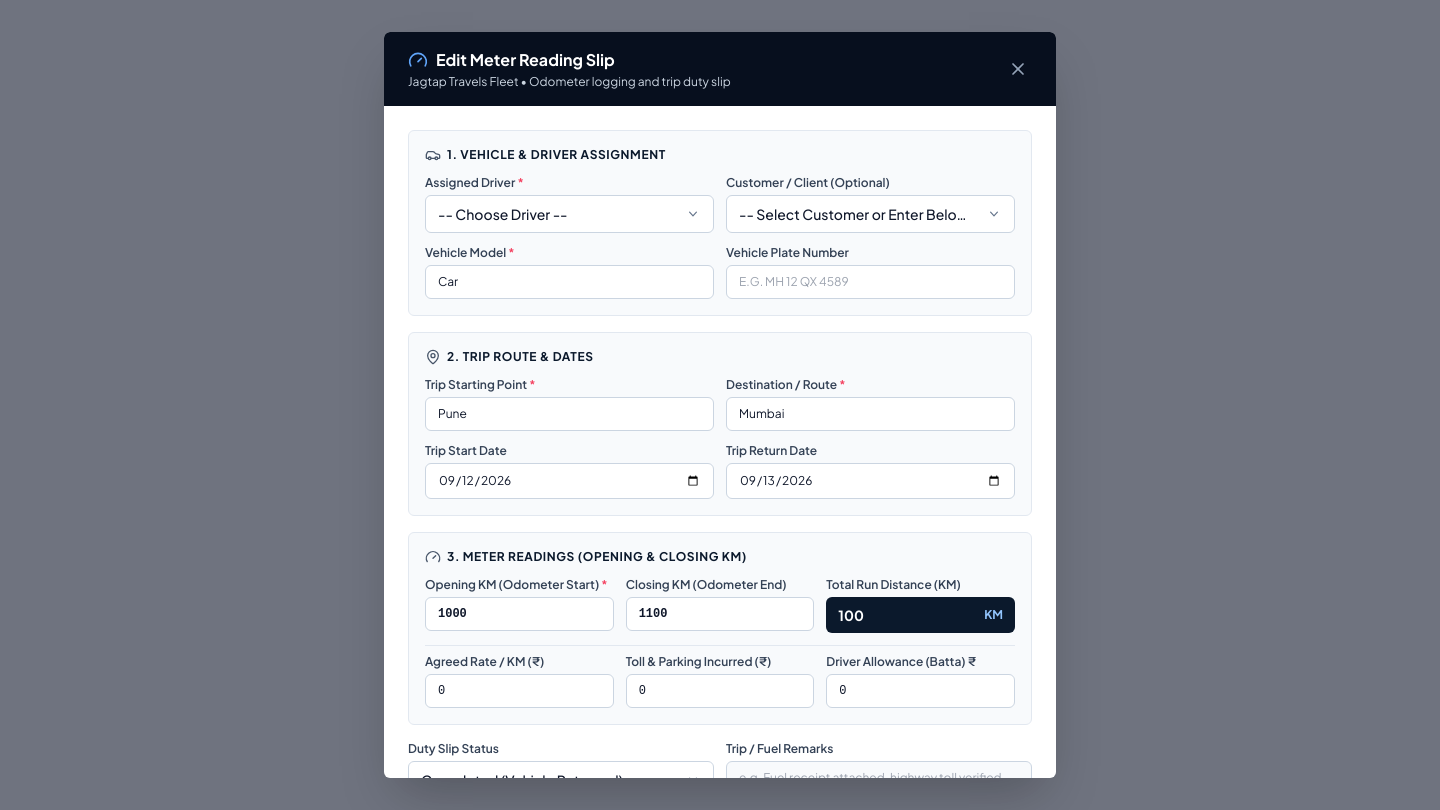
Test: meter edit preserves zero rates and rejects reversed readings
Step 1. Replace the text in the number field with placeholder "e.g. 42680" below "Closing KM (Odometer End)" with "900" → [720, 614], box [626,597,814,631]
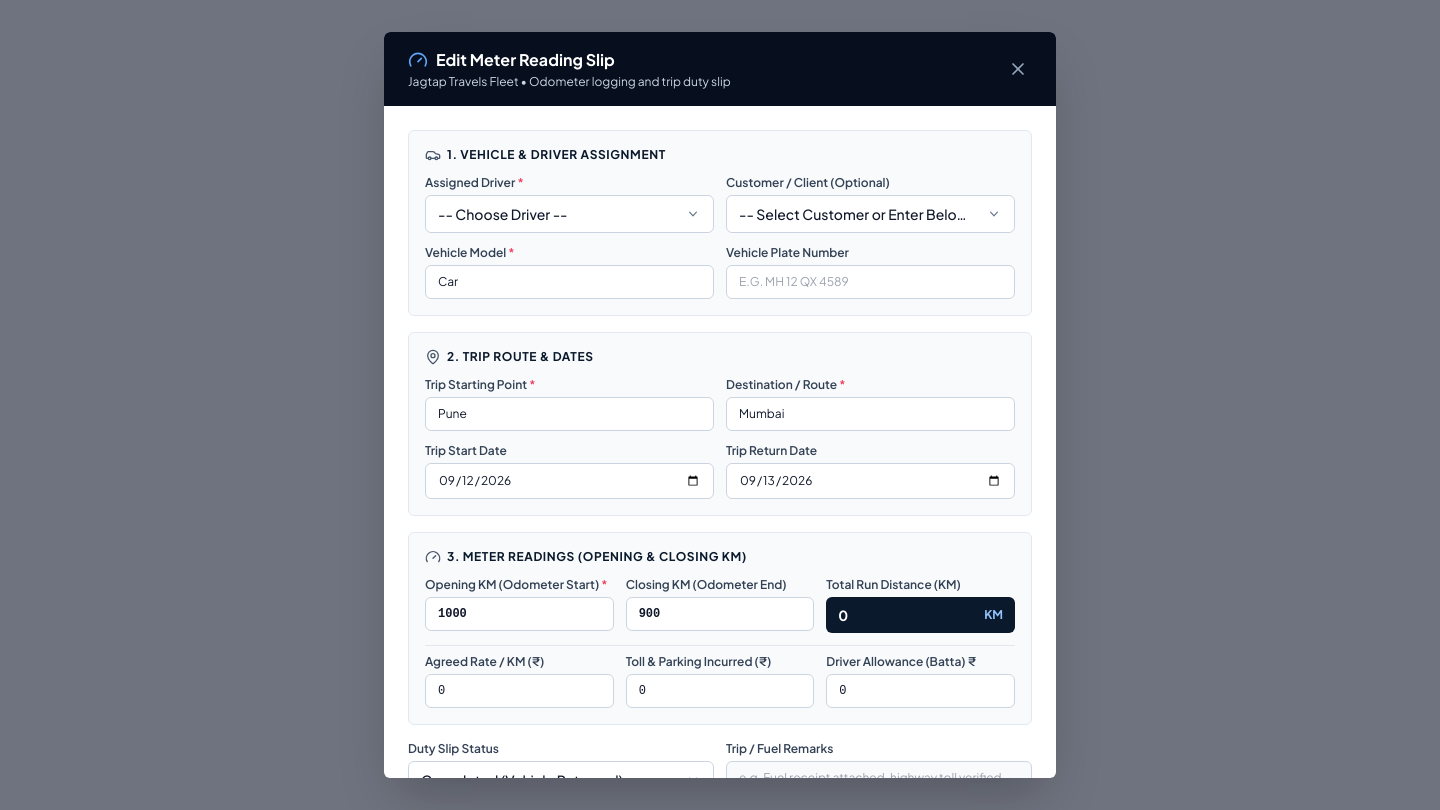
Step 2. Submit the form, box [384,106,1056,778]
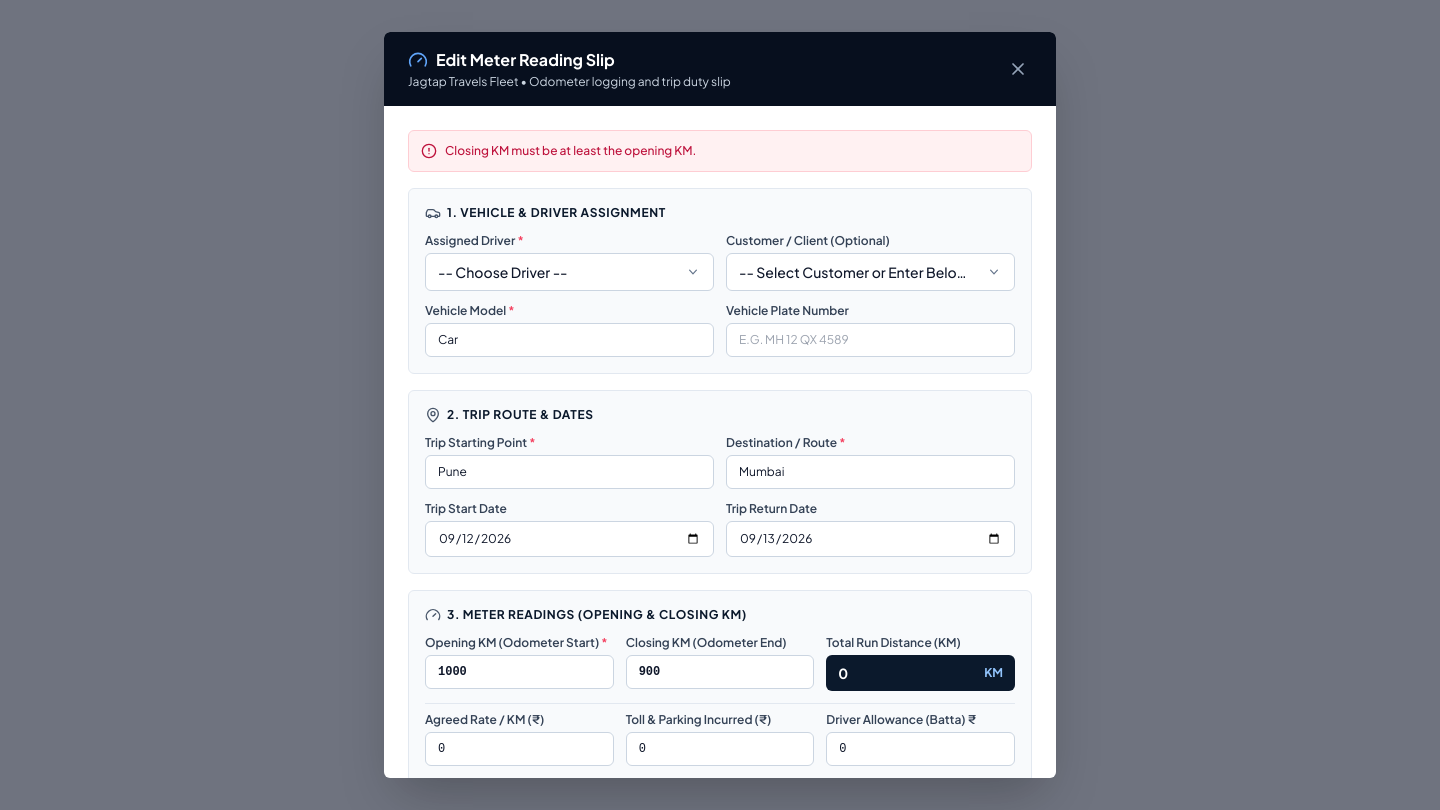
expect the text "Closing KM must be at least" is shown: met, box [445,143,696,158]
